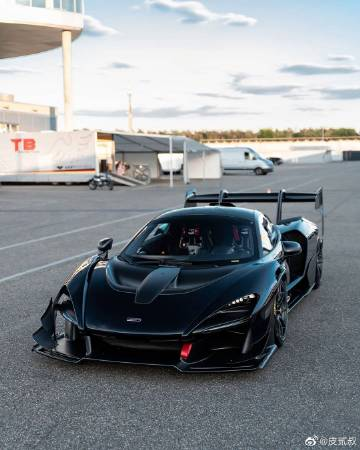other: (30, 192, 335, 378)
